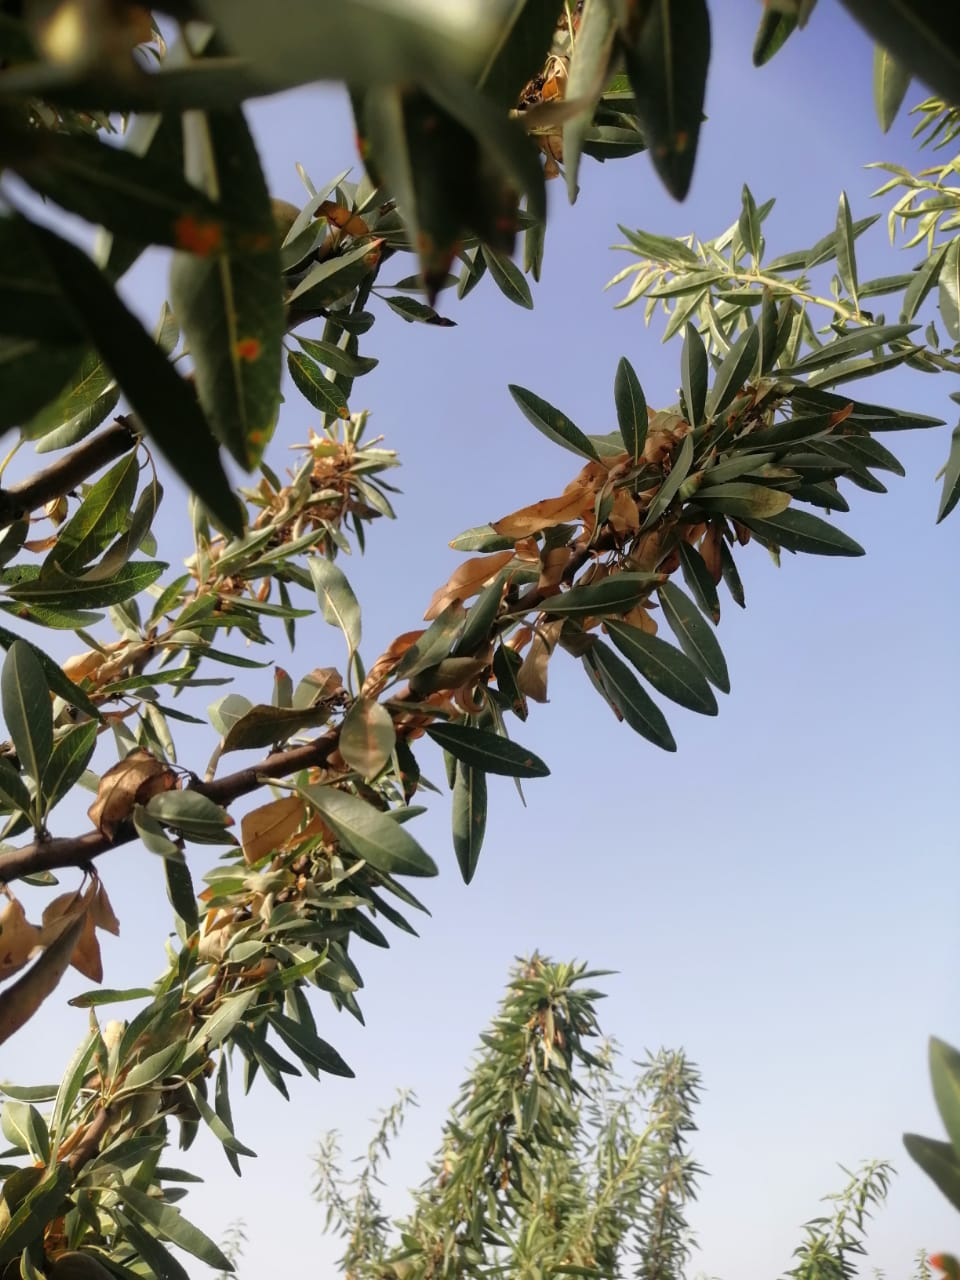scolytes: (1, 404, 741, 1280), (56, 434, 359, 721), (510, 958, 576, 1054)
